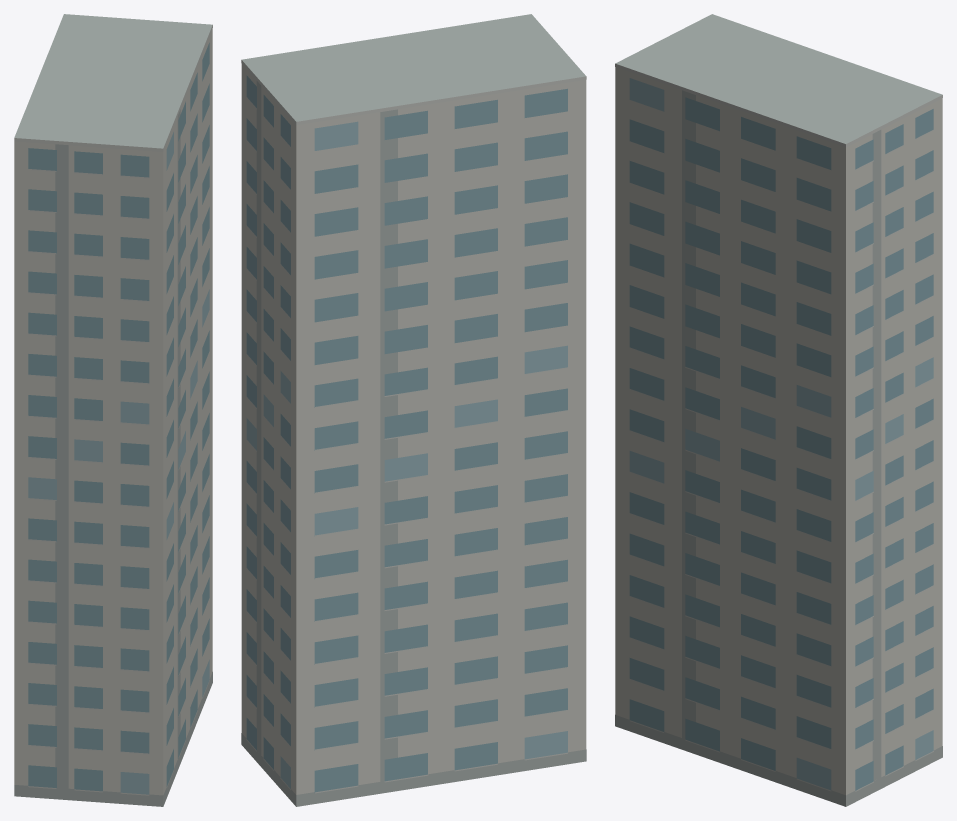
Rendered from residential-6686a38c-01c0-4980-a7f6-73234775f089.glb.
The picture shows the model from 3 angles, left to right: view 1: azimuth 30°, elevation 25°; view 2: azimuth 150°, elevation 25°; view 3: azimuth 270°, elevation 25°; orthographic projection. The views are drawn at different scales.
Parts seen in each view (by area): view 1: residential-6686a38c-01c0-4980-a7f6-73234775f089.tmp; view 2: residential-6686a38c-01c0-4980-a7f6-73234775f089.tmp; view 3: residential-6686a38c-01c0-4980-a7f6-73234775f089.tmp.
Part boxes in pixels (box(x1,y1,x2,y2)): residential-6686a38c-01c0-4980-a7f6-73234775f089.tmp: box(14, 14, 212, 806); residential-6686a38c-01c0-4980-a7f6-73234775f089.tmp: box(241, 14, 586, 806); residential-6686a38c-01c0-4980-a7f6-73234775f089.tmp: box(615, 14, 942, 806).
Bounding box in the file's own units: 20.23 × 48 × 21.52.
